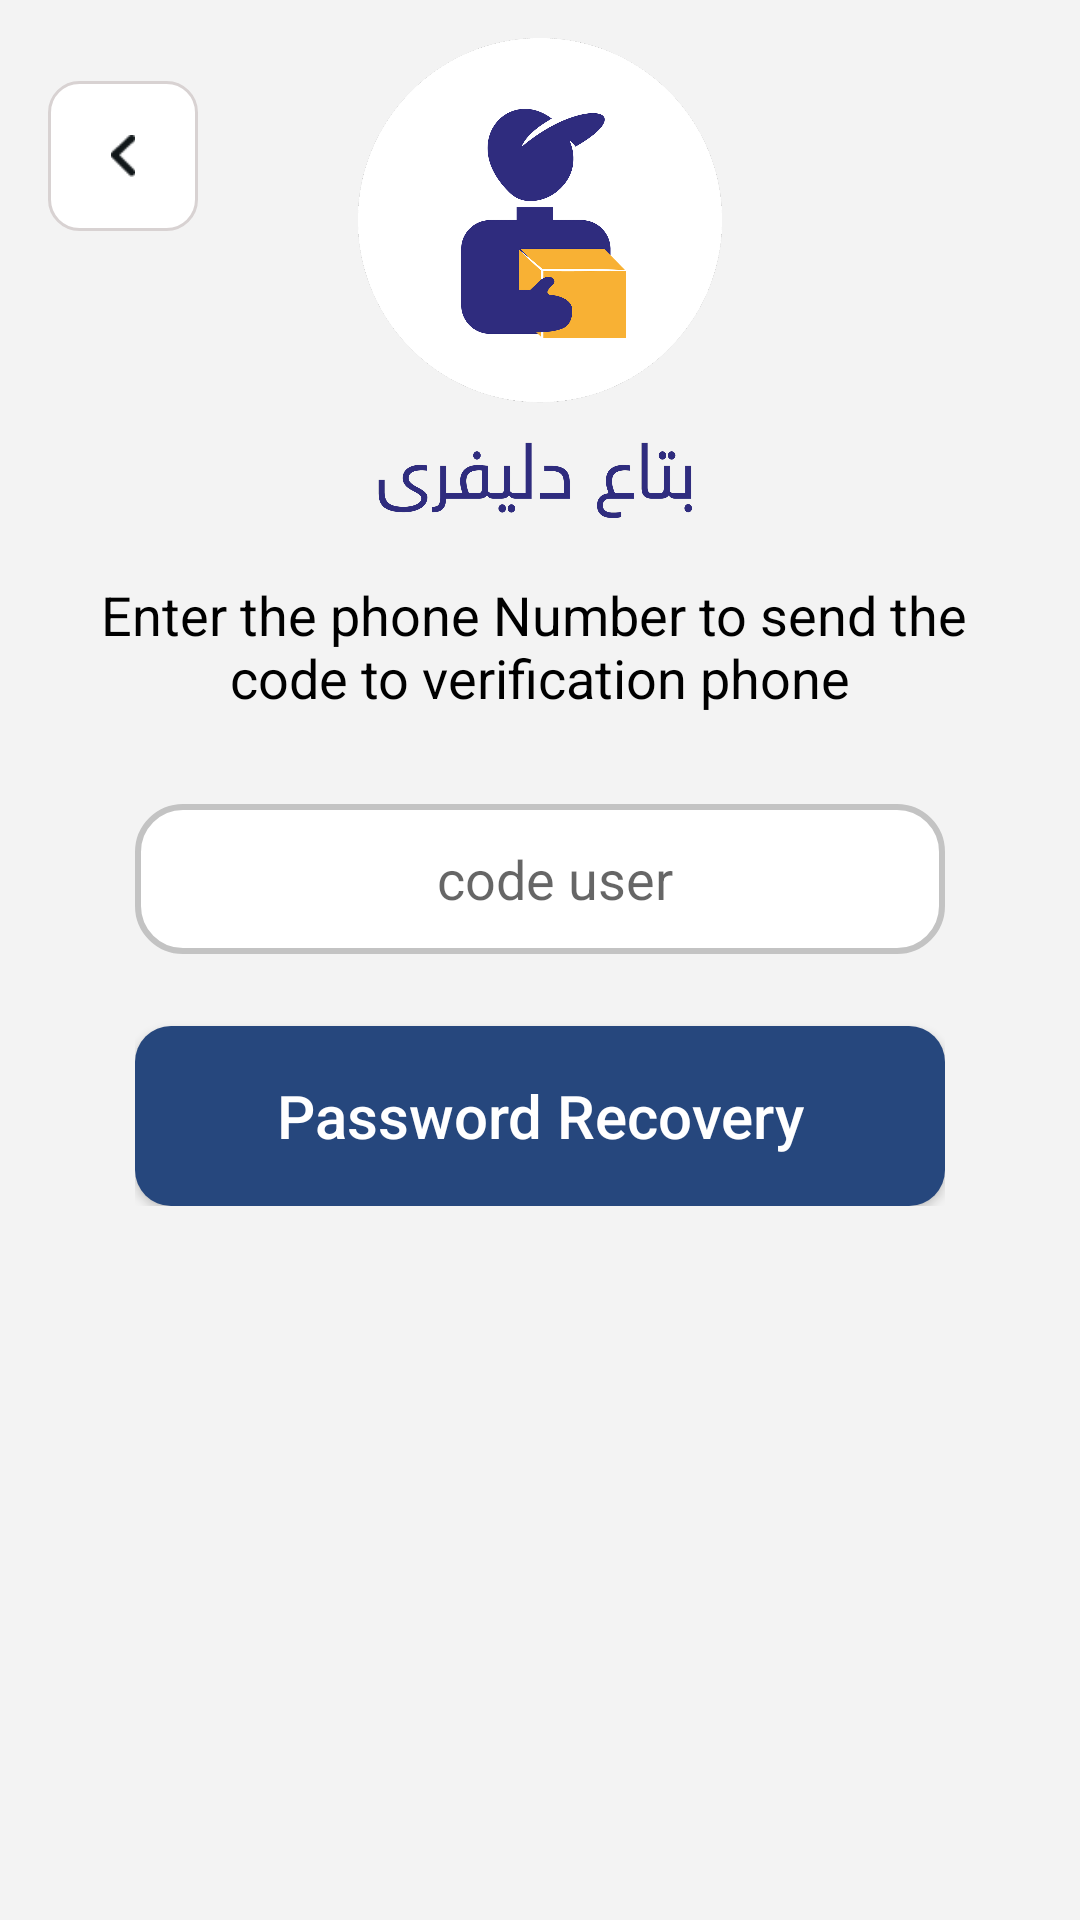

Icons on this 1080 × 1920 Android screen, each with its box as box=[x1, y1, x2, y2]:
back: box=[48, 81, 198, 231]
